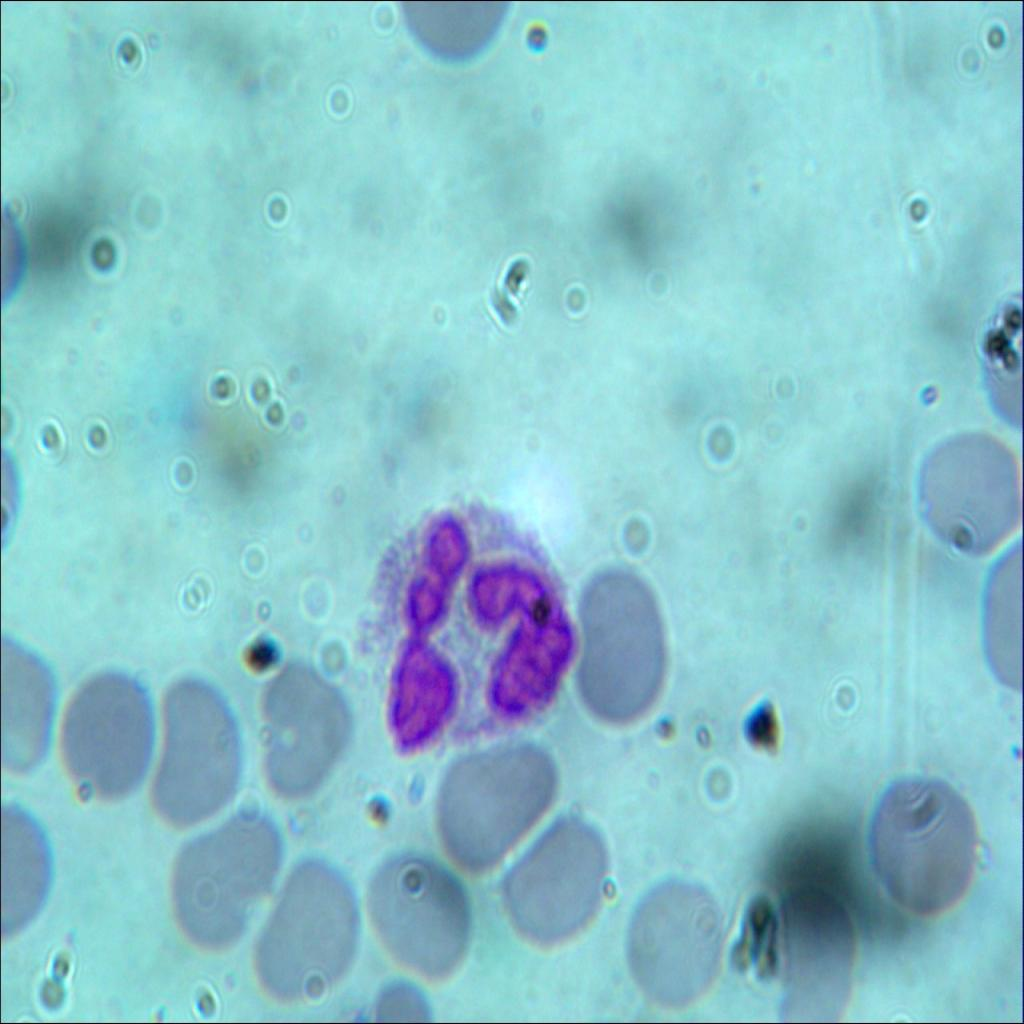Eritrosit: (566, 562, 680, 732), (863, 774, 983, 925), (904, 421, 1023, 571), (143, 666, 244, 826), (178, 801, 283, 953), (249, 655, 353, 801), (433, 742, 551, 868), (53, 662, 156, 806), (261, 854, 361, 1002), (356, 849, 470, 977), (501, 815, 613, 942), (621, 876, 728, 1000), (769, 888, 858, 1018)
Neutrofil: (363, 497, 575, 766)
